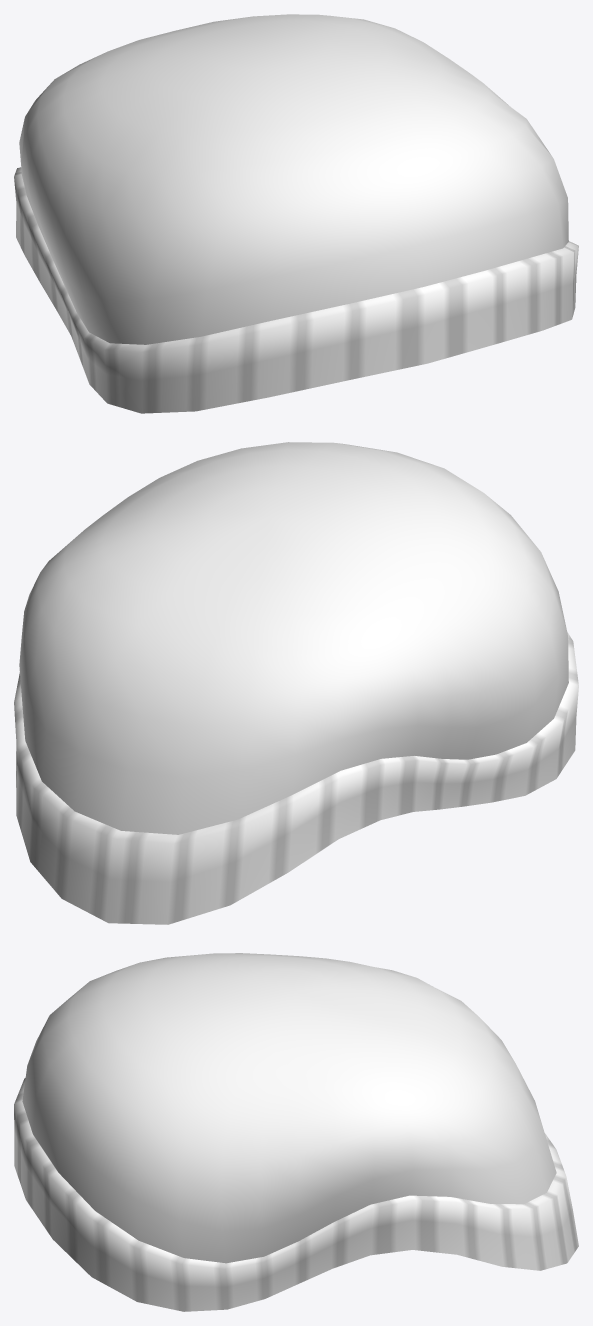
File: beanie.fbx
3 views of the same model, one above another, from view 1: azimuth 30°, elevation 25°; view 2: azimuth 150°, elevation 25°; view 3: azimuth 270°, elevation 25° (orthographic). The views are drawn at different scales.
Parts seen in each view (by area): view 1: beanie; view 2: beanie; view 3: beanie.
Boxes of the visible parts, x1,y1,x2,y2 form: beanie: (14, 14, 578, 413); beanie: (14, 442, 578, 924); beanie: (14, 953, 578, 1311).
Size of the model in its own units: 35.12 by 21.48 by 42.46.
Materials: 1 (1 with a texture image).
